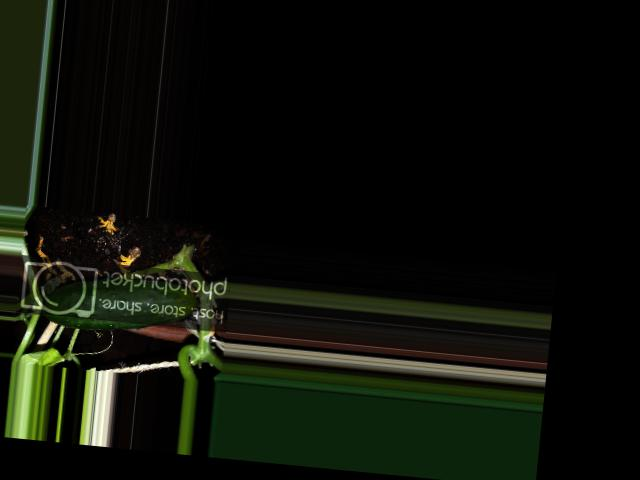cucumber: (41, 268, 198, 339)
